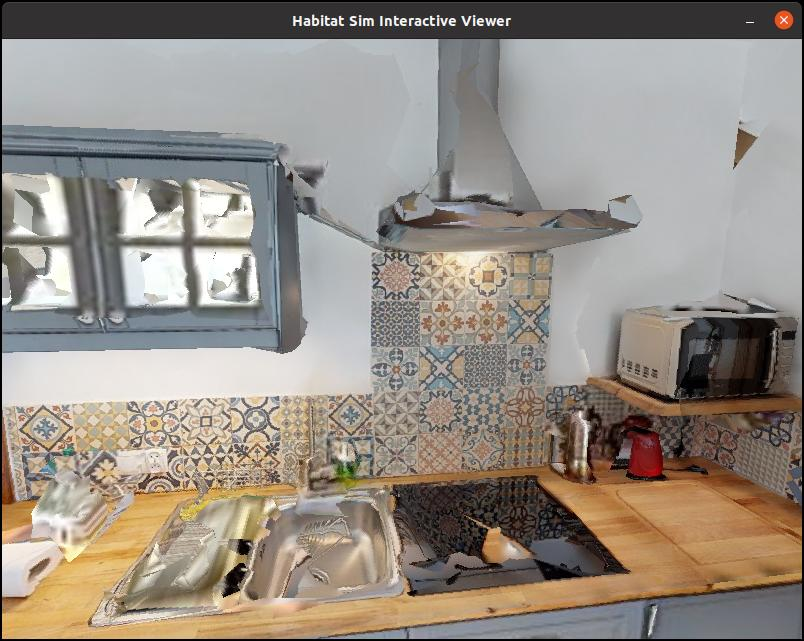sink: (92, 419, 412, 636)
table: (0, 442, 800, 641)
